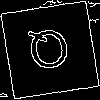Q: (25, 24, 74, 81)
